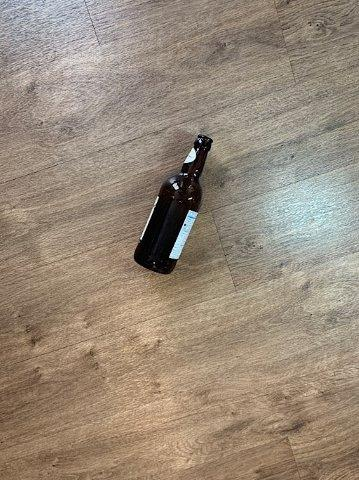botolkaca: (135, 135, 211, 273)
